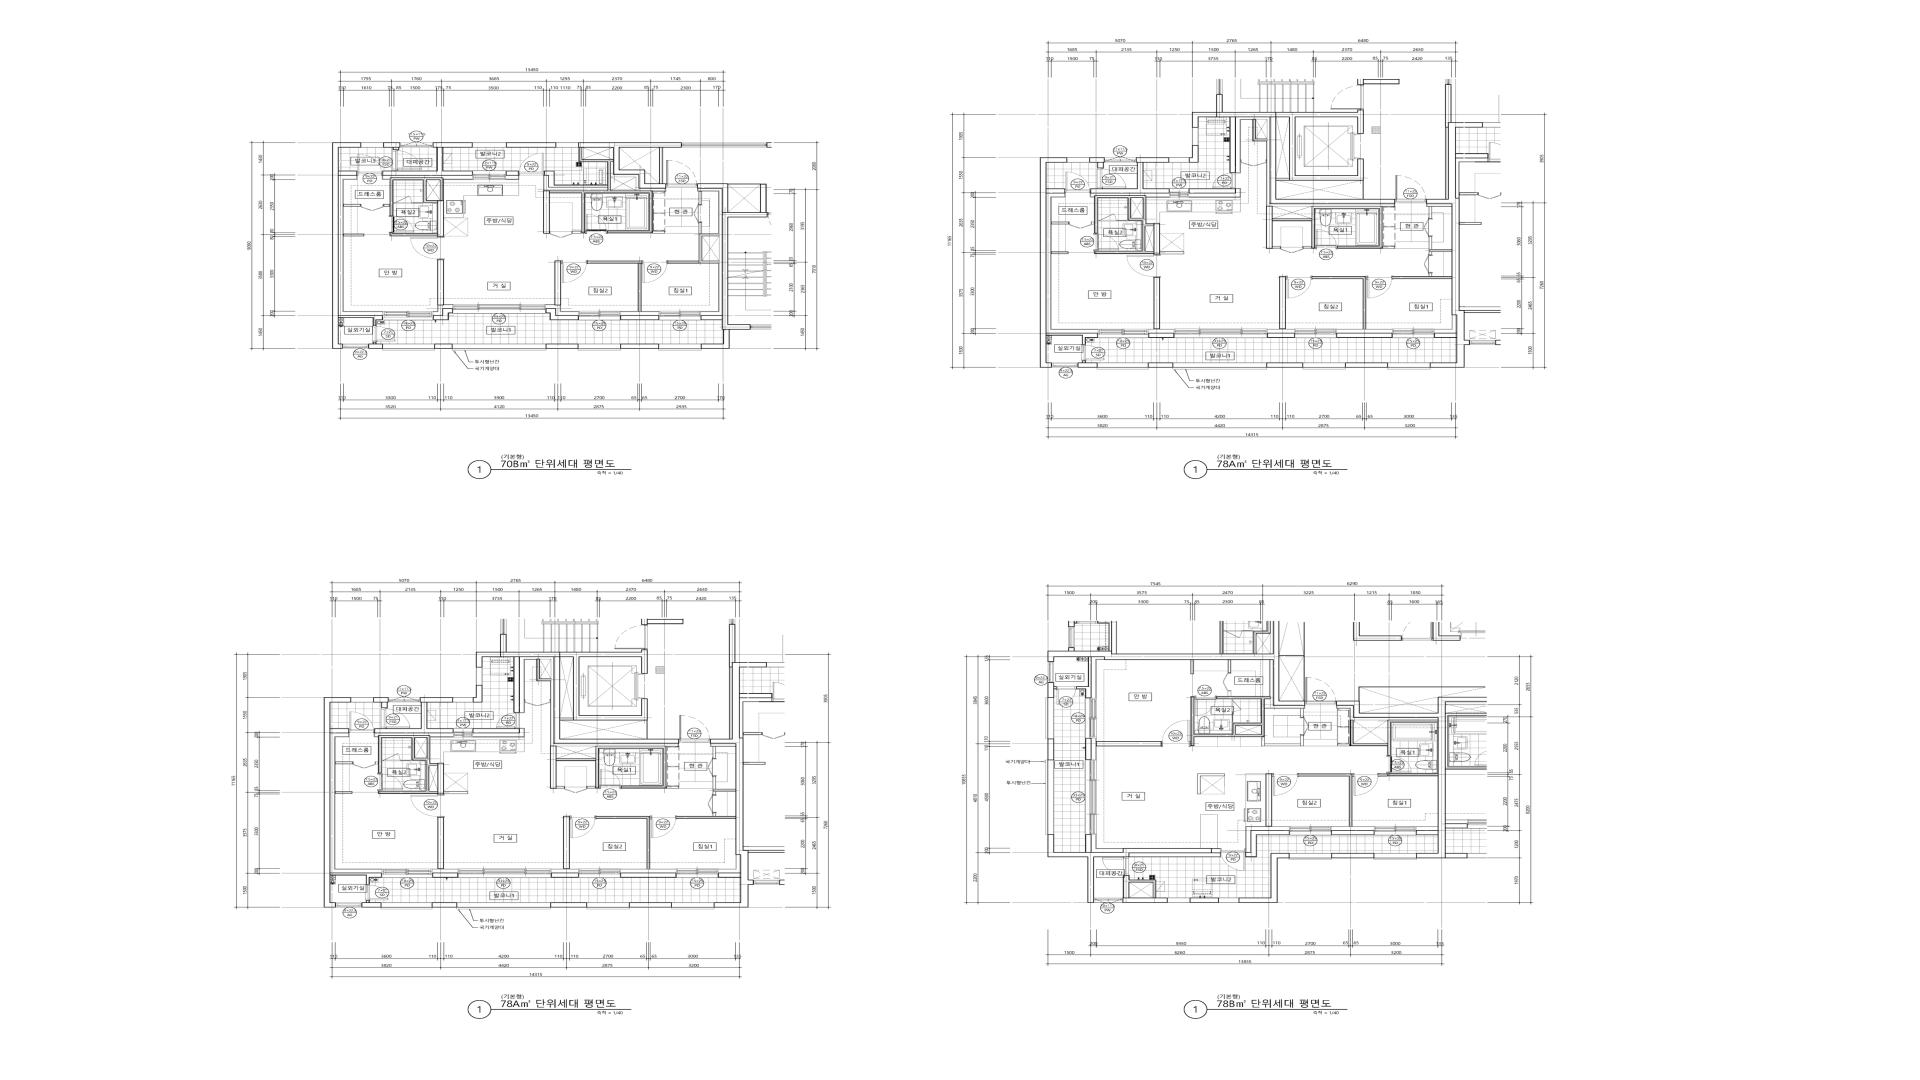door: (666, 160, 698, 187), (679, 715, 711, 741), (1395, 175, 1427, 202), (615, 625, 647, 650), (1331, 84, 1364, 109), (410, 794, 444, 818), (410, 236, 444, 260), (1162, 720, 1191, 746), (1305, 678, 1336, 703), (1127, 255, 1160, 277), (393, 150, 422, 171), (650, 816, 676, 839), (1220, 848, 1246, 870), (518, 153, 545, 175), (1286, 276, 1312, 298), (1064, 171, 1091, 194), (1352, 774, 1379, 795), (381, 708, 410, 728), (1097, 169, 1126, 189), (642, 261, 667, 284), (570, 816, 596, 837), (348, 712, 375, 733), (1273, 774, 1299, 795), (560, 261, 587, 282), (1366, 277, 1393, 298), (357, 154, 382, 175), (1102, 857, 1129, 876), (599, 769, 621, 789), (585, 214, 608, 233), (1315, 229, 1337, 249), (1387, 756, 1411, 774), (1095, 233, 1118, 252), (1195, 696, 1216, 716), (378, 774, 402, 791), (390, 216, 414, 233), (373, 326, 396, 342), (1213, 173, 1236, 189), (1083, 344, 1105, 360), (496, 713, 520, 728), (367, 885, 388, 901), (1241, 160, 1267, 166), (525, 699, 550, 705), (352, 762, 376, 769), (360, 204, 384, 211), (564, 786, 587, 793), (550, 231, 572, 237), (1280, 247, 1303, 253), (1069, 222, 1092, 228), (708, 758, 716, 777), (1300, 717, 1308, 736), (1224, 673, 1232, 691), (694, 204, 702, 223), (1424, 255, 1432, 273), (1098, 214, 1117, 222), (708, 795, 716, 812), (382, 753, 400, 761), (1424, 219, 1432, 236), (1232, 699, 1241, 712), (393, 196, 411, 203)
wall: (1047, 621, 1305, 705), (676, 624, 749, 907), (1393, 84, 1465, 368), (1192, 109, 1395, 204), (476, 650, 679, 744), (1336, 698, 1445, 858), (520, 657, 679, 746), (1236, 117, 1395, 206), (543, 142, 682, 233), (1039, 157, 1098, 368), (323, 698, 381, 907), (1047, 835, 1220, 903), (698, 183, 767, 349), (332, 142, 382, 349), (1047, 194, 1098, 334), (330, 733, 381, 873), (339, 175, 382, 315), (1266, 206, 1382, 249), (550, 746, 666, 789), (1191, 696, 1271, 746), (1095, 195, 1160, 255), (378, 736, 443, 794), (390, 178, 444, 236), (698, 189, 721, 315), (382, 142, 472, 175), (1091, 157, 1170, 194), (596, 816, 650, 869), (1312, 277, 1366, 330), (1299, 774, 1353, 827), (375, 698, 454, 733), (587, 261, 642, 311), (1238, 853, 1290, 903), (1265, 659, 1305, 717), (611, 162, 666, 191), (1336, 705, 1437, 720), (1124, 876, 1167, 903), (1246, 831, 1290, 857), (1246, 827, 1290, 852), (543, 175, 608, 191), (1197, 774, 1225, 794), (1092, 835, 1122, 852), (1092, 657, 1104, 699), (472, 728, 525, 737), (1189, 189, 1241, 198), (1262, 736, 1304, 746), (702, 236, 719, 261), (1429, 236, 1452, 255), (713, 777, 736, 795), (717, 855, 740, 873), (546, 309, 579, 320), (1435, 315, 1457, 332), (709, 744, 736, 758), (1129, 882, 1153, 898), (1427, 204, 1452, 219), (1129, 853, 1220, 857), (1279, 276, 1286, 330), (382, 175, 472, 179), (546, 305, 579, 315), (563, 816, 570, 869), (1266, 774, 1273, 827), (1096, 741, 1162, 746), (1154, 277, 1160, 330), (438, 818, 444, 869), (1253, 119, 1267, 141), (375, 733, 454, 737), (1091, 194, 1170, 198), (537, 659, 551, 680), (438, 260, 444, 306), (620, 873, 676, 878), (554, 261, 560, 306), (426, 181, 440, 200), (641, 618, 683, 625), (506, 142, 556, 148), (472, 728, 520, 733), (1189, 189, 1236, 194), (433, 309, 452, 320), (620, 869, 676, 873), (1336, 330, 1393, 334), (1332, 853, 1374, 858), (629, 902, 671, 907), (1345, 363, 1387, 368), (1337, 334, 1393, 338), (1358, 79, 1399, 84), (620, 315, 659, 320), (433, 305, 452, 315), (621, 344, 658, 349), (1089, 157, 1105, 169), (551, 902, 587, 907), (729, 667, 732, 738), (1267, 363, 1303, 368), (472, 686, 483, 703), (546, 344, 578, 349), (373, 698, 389, 708), (1332, 827, 1374, 831), (1332, 831, 1374, 835), (1189, 145, 1199, 162), (620, 311, 659, 315), (1077, 360, 1097, 368), (1189, 898, 1218, 903), (1267, 332, 1295, 338), (551, 873, 579, 878), (1149, 332, 1175, 338), (1047, 738, 1054, 760), (1085, 738, 1092, 760), (384, 142, 401, 150), (1047, 683, 1056, 698), (433, 873, 458, 878), (361, 901, 381, 907), (433, 902, 456, 907), (1149, 363, 1172, 368), (368, 342, 382, 349), (1267, 330, 1295, 334), (551, 869, 579, 873), (1149, 330, 1175, 334), (433, 869, 458, 873), (434, 344, 452, 349), (1447, 128, 1448, 199), (659, 148, 662, 183), (667, 261, 699, 264), (1416, 827, 1437, 831), (1092, 738, 1096, 760), (443, 791, 468, 794), (1160, 252, 1184, 255), (505, 171, 518, 175), (505, 175, 518, 179), (1228, 659, 1232, 673), (728, 183, 761, 185), (1191, 659, 1193, 674), (1276, 178, 1290, 181), (1382, 247, 1395, 249), (560, 717, 574, 720), (666, 786, 679, 789), (1337, 744, 1350, 746), (653, 231, 665, 233), (1303, 247, 1312, 249), (587, 786, 596, 789), (572, 231, 582, 233), (1273, 247, 1280, 249), (556, 786, 564, 789), (1228, 691, 1232, 696), (384, 204, 390, 207), (400, 760, 411, 761), (1232, 712, 1233, 723), (1117, 220, 1127, 222), (1429, 273, 1432, 277), (713, 812, 716, 816), (376, 762, 378, 765), (1092, 222, 1095, 224), (411, 203, 422, 203)
window: (452, 305, 546, 314), (458, 869, 551, 878), (1085, 760, 1096, 835), (1175, 330, 1267, 338), (456, 903, 551, 910), (1172, 363, 1267, 369), (452, 344, 546, 351), (1046, 760, 1054, 835), (381, 869, 433, 878), (382, 311, 433, 320), (1085, 698, 1096, 738), (1098, 330, 1149, 338), (676, 869, 719, 878), (579, 311, 620, 320), (659, 311, 700, 320), (579, 869, 620, 878), (382, 344, 435, 351), (671, 902, 715, 910), (381, 903, 433, 910), (1097, 363, 1149, 369), (587, 902, 629, 910), (1374, 827, 1416, 835), (1290, 827, 1332, 835), (1295, 330, 1337, 338), (1393, 330, 1435, 338), (1046, 698, 1054, 738), (1387, 363, 1431, 369), (658, 344, 702, 351), (578, 344, 621, 351), (1374, 853, 1416, 860), (1290, 853, 1332, 860), (1303, 363, 1345, 369), (472, 171, 506, 179), (400, 141, 433, 148), (388, 696, 419, 703), (1095, 898, 1124, 905), (1170, 189, 1189, 198), (472, 142, 506, 148), (454, 728, 472, 737), (1105, 157, 1135, 162), (335, 902, 361, 907), (1047, 662, 1054, 683), (1051, 363, 1077, 368), (343, 344, 368, 349), (476, 667, 483, 686), (556, 142, 579, 148), (351, 698, 373, 703), (1167, 898, 1189, 903), (361, 142, 384, 148), (1067, 157, 1089, 162), (1192, 128, 1199, 145), (452, 698, 472, 703), (1218, 898, 1238, 903), (1170, 157, 1189, 162)
